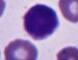L: (23, 1, 60, 40)
